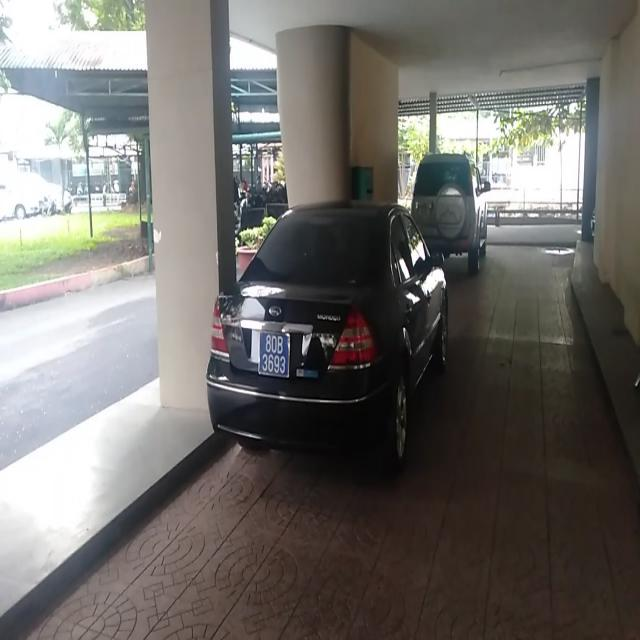bien_xanh: (256, 328, 291, 377)
